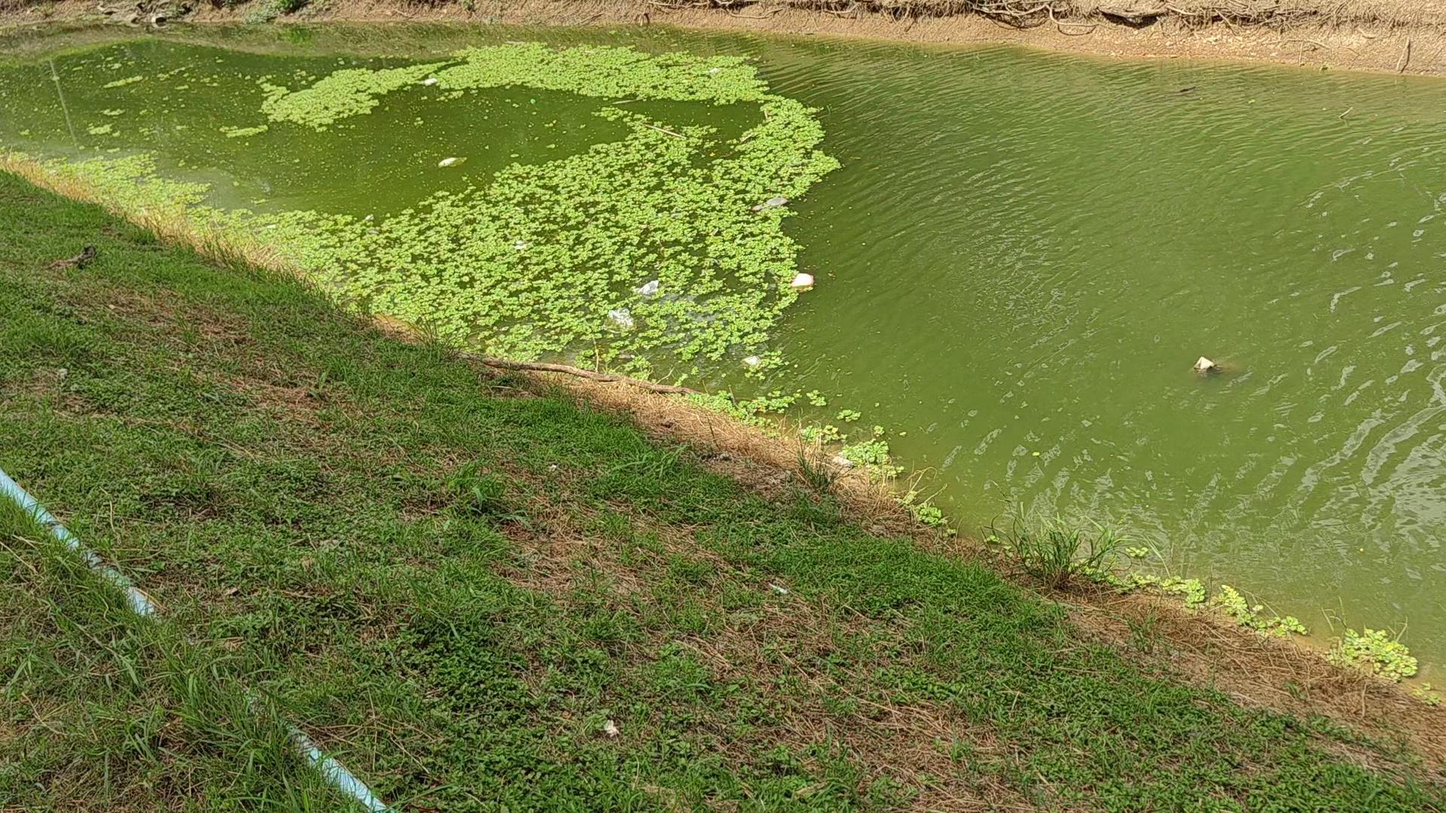trash: (608, 308, 634, 329), (754, 196, 789, 211), (637, 279, 659, 296), (790, 273, 813, 288), (438, 157, 466, 166), (743, 355, 761, 367), (514, 239, 531, 250), (420, 77, 438, 85), (708, 69, 722, 73), (365, 215, 374, 221)
